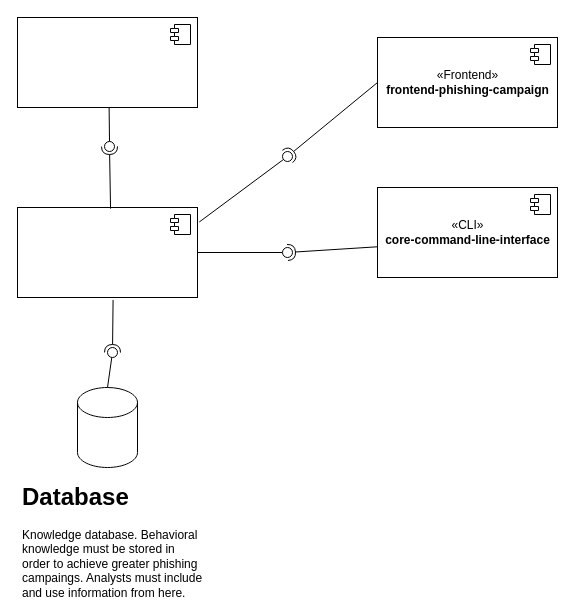
The diagram is 575 pixels wide and 616 high, and some of its shapes have lost their labels. Here are the shapes that lost their labels. From the top down, the centre of each, then its label:
(x=107, y=62): «External System» GoPhish
(x=107, y=252): «Microsservice» bff-phishing-campaing
